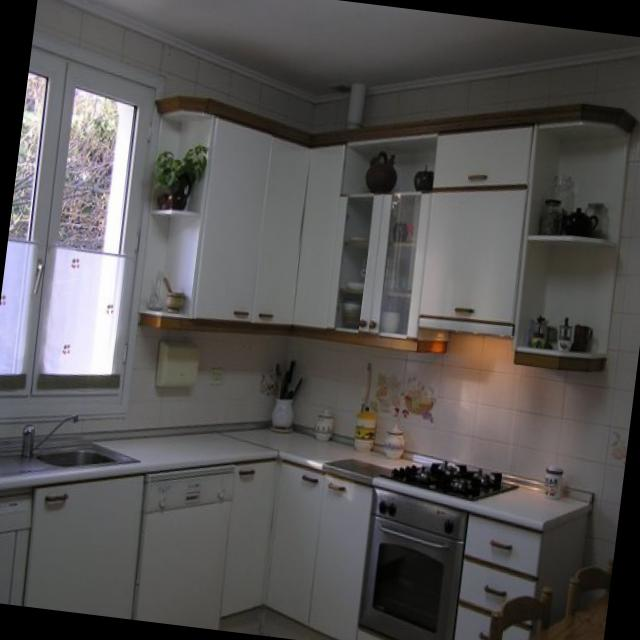2001: (30, 59, 156, 405)
canister: (351, 409, 377, 449), (541, 459, 563, 495), (385, 422, 404, 456)
curtain crop: (35, 244, 136, 374)
dishwasher: (136, 468, 236, 626)
door bars: (193, 115, 271, 321)
handle bar: (45, 492, 67, 504)
paper towel holder: (155, 340, 194, 389)
plant -x: (154, 140, 211, 212)
sink basin: (0, 409, 138, 476)
stove burner: (359, 458, 520, 640)
tea pot: (363, 152, 395, 194)
